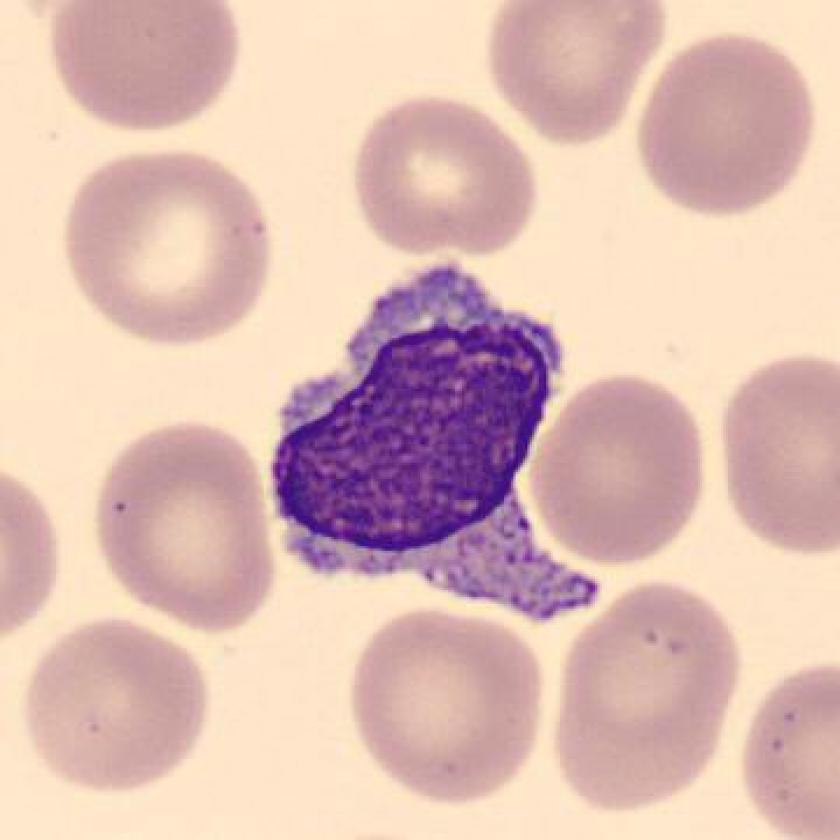lymphocyte: (246, 244, 617, 637)
